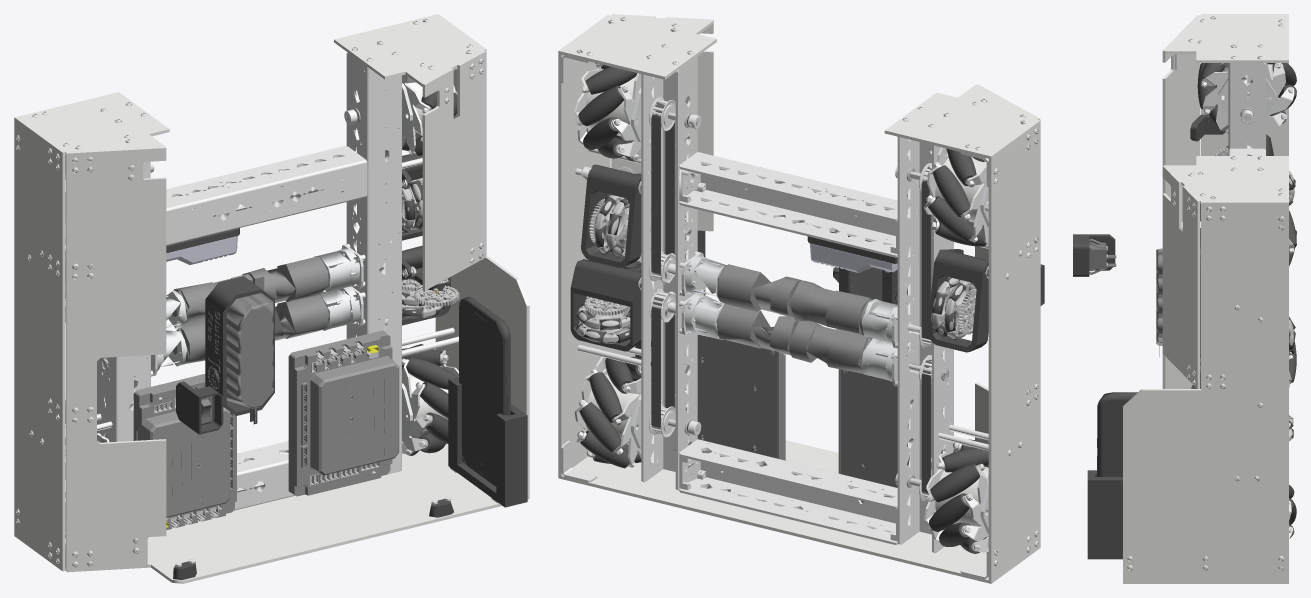
The model's file is roverruckus-drivetrain.glb.
3 views of the same model, side by side, from view 1: azimuth 30°, elevation 25°; view 2: azimuth 150°, elevation 25°; view 3: azimuth 270°, elevation 25° (orthographic). The views are drawn at different scales.
Visible parts, largest first — view 1: Battery Mount v34, BM8, BM7(Mirror) (1); view 2: Battery Mount v34, BM8, BM7(Mirror) (1), Wheel Plate v1(Mirror) (2), 632138_91375A438; view 3: Battery Mount v34, 632138_91375A438, BM7(Mirror) (1).
Part boxes in pixels (box(x1,y1,x2,y2)): Battery Mount v34: box(14, 14, 529, 583); BM8: box(402, 344, 458, 455); BM7(Mirror) (1): box(344, 68, 457, 155); Battery Mount v34: box(558, 14, 1044, 583); BM8: box(574, 356, 701, 468); BM7(Mirror) (1): box(574, 63, 701, 161); Wheel Plate v1(Mirror) (2): box(895, 439, 988, 553); 632138_91375A438: box(895, 147, 988, 246); Battery Mount v34: box(1073, 14, 1295, 583); 632138_91375A438: box(1197, 63, 1296, 133); BM7(Mirror) (1): box(1200, 210, 1296, 266).
Bounding box in the file's own units: 0.4542 × 0.4288 × 0.2261.
Materials: 5 (5 with a texture image).
